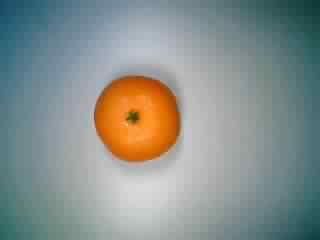orange: (92, 70, 187, 172)
